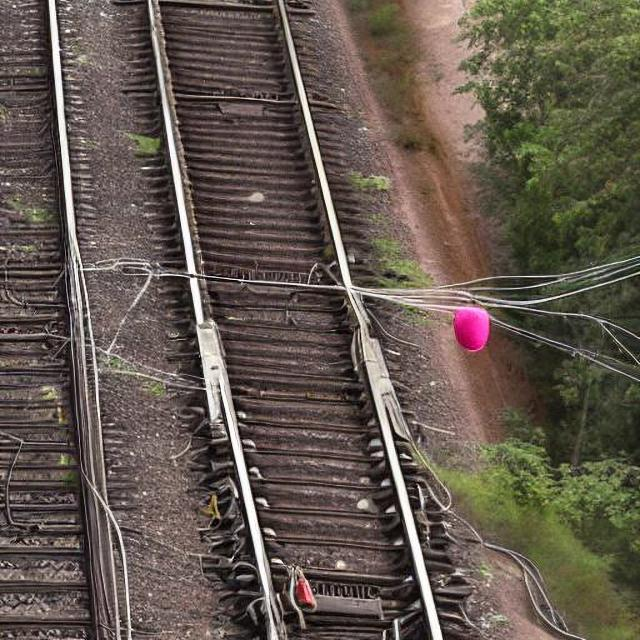balloon: (446, 301, 491, 354)
